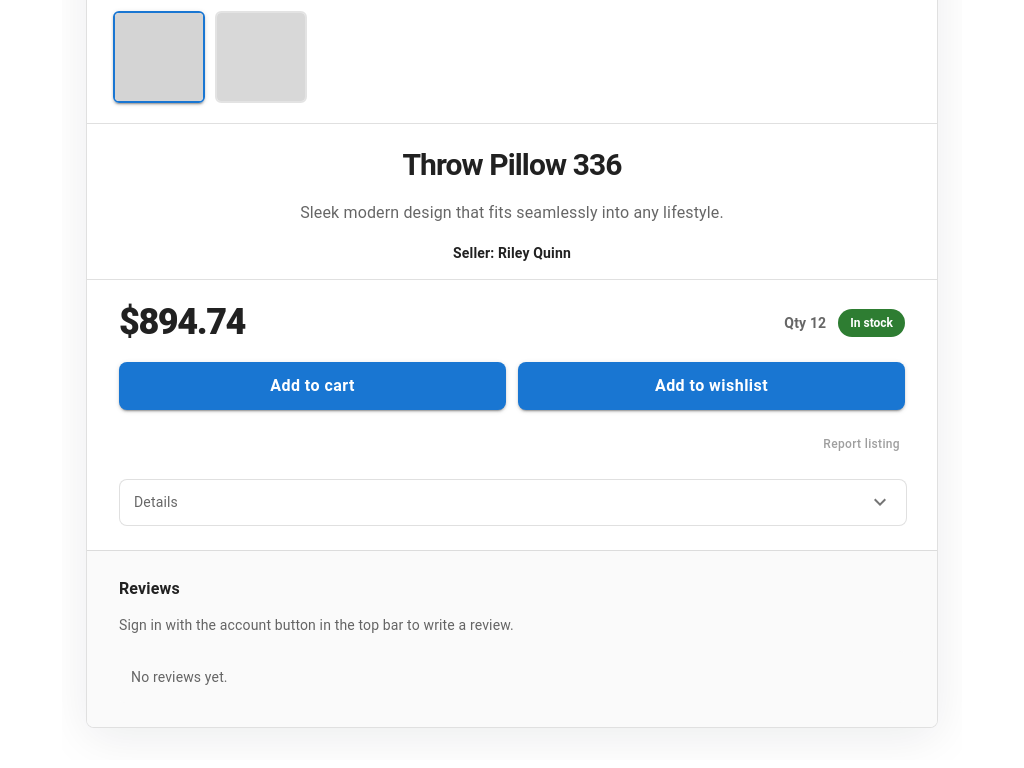
shows a sign in alert when Add to cart is clicked while signed out
(page scrolled)
Click the button "Add to cart". click: (312, 386)
box: [119,362,506,410]
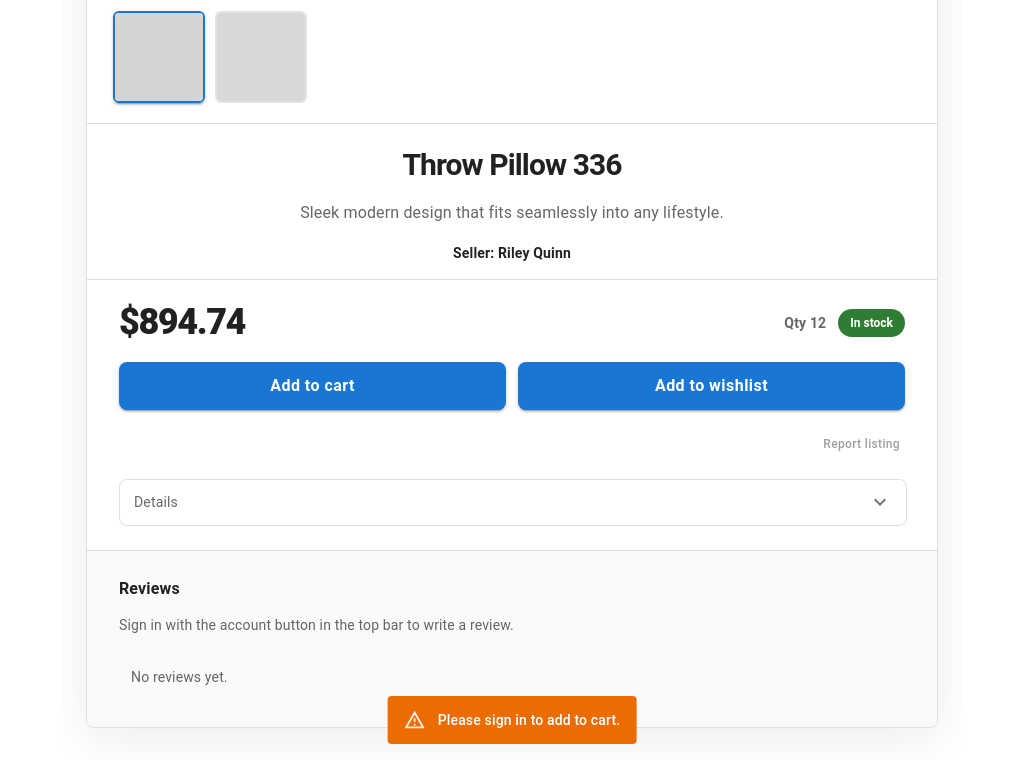
expect the message labelled "Please sign in to add to cart." is shown: met, box [388,696,636,744]
